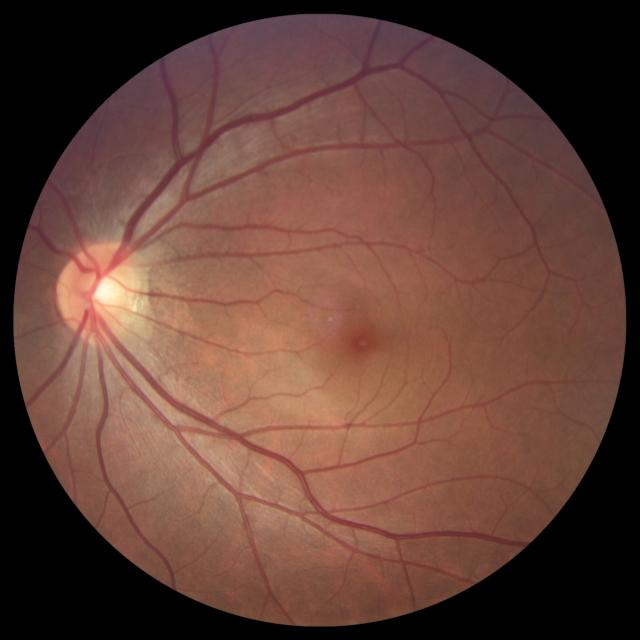OC: (86, 274, 120, 309)
OD: (59, 242, 143, 340)
